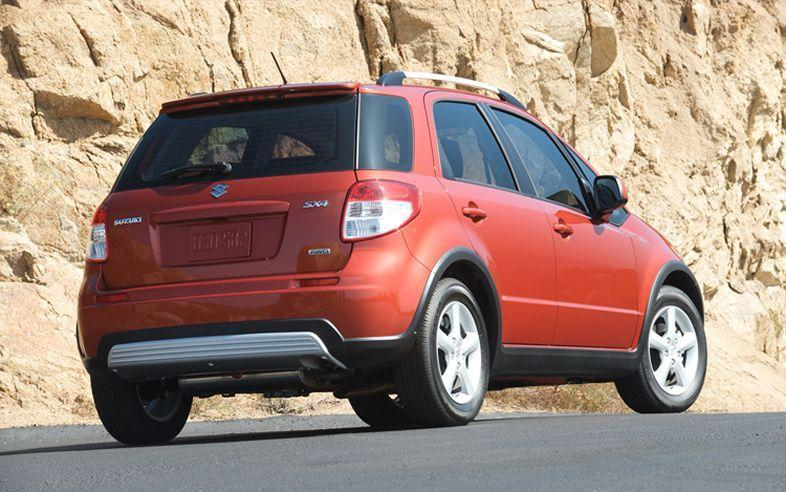suzuki: (206, 177, 235, 205)
